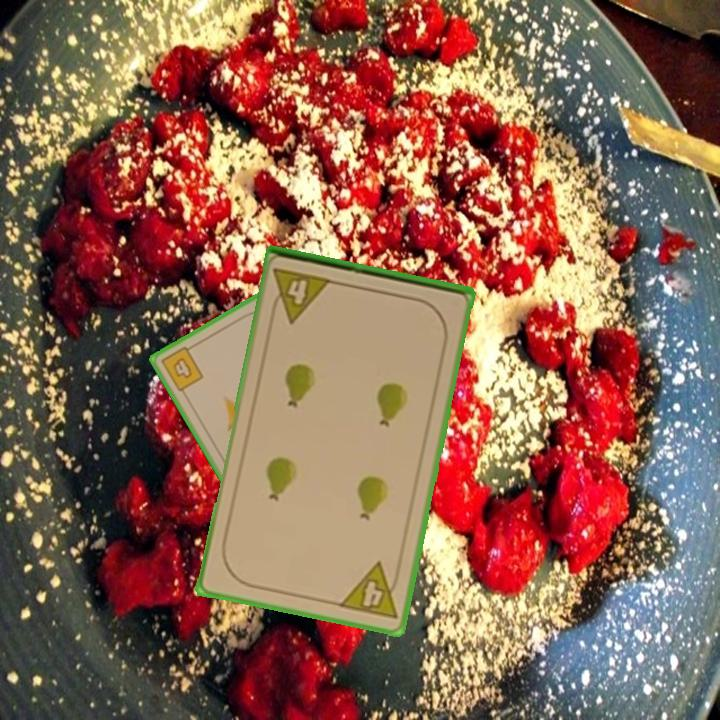4b: (157, 341, 206, 394)
4p: (335, 558, 404, 622), (267, 264, 335, 326)
